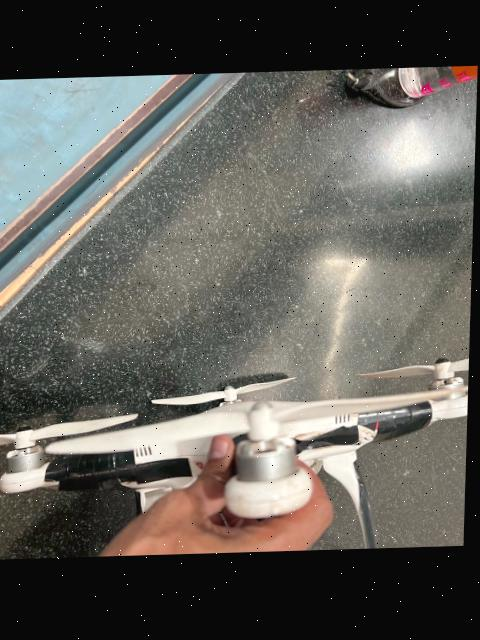drone: (0, 311, 473, 556)
